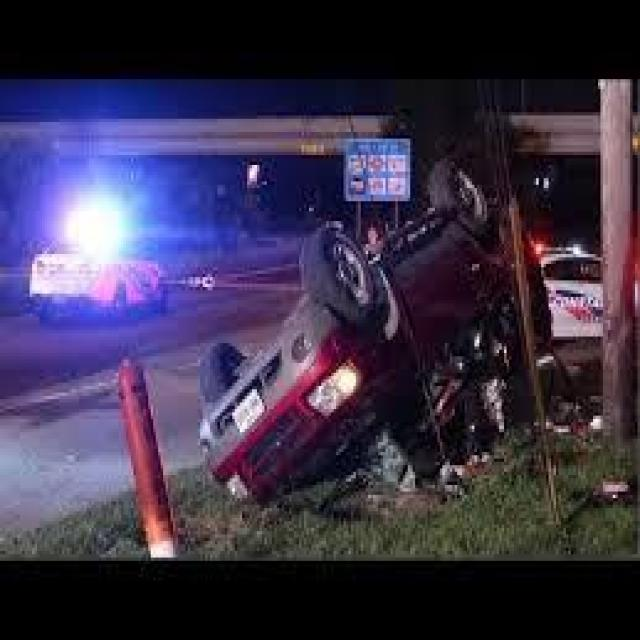severe: (198, 155, 551, 505)
